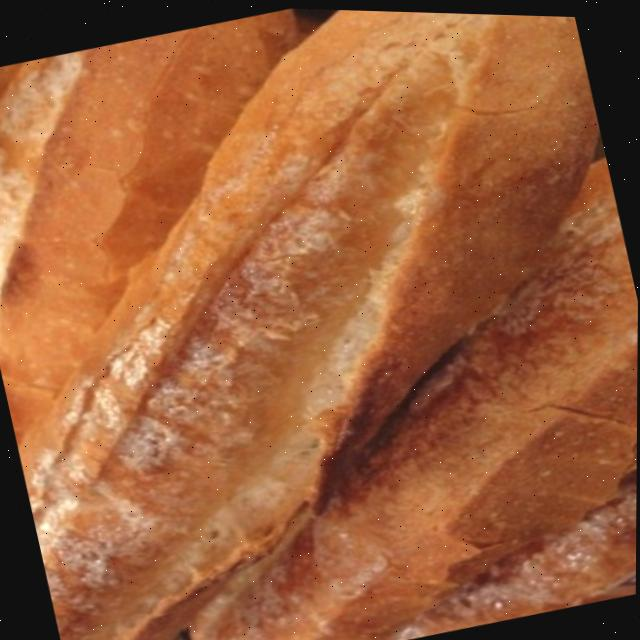刺身生食: (0, 94, 639, 640)
汤锅炖物: (101, 2, 430, 219)
